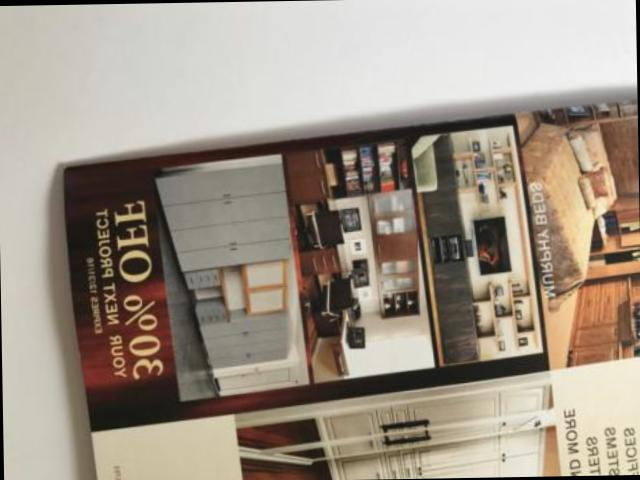cardboard paper: (68, 100, 640, 480), (556, 356, 640, 476)
